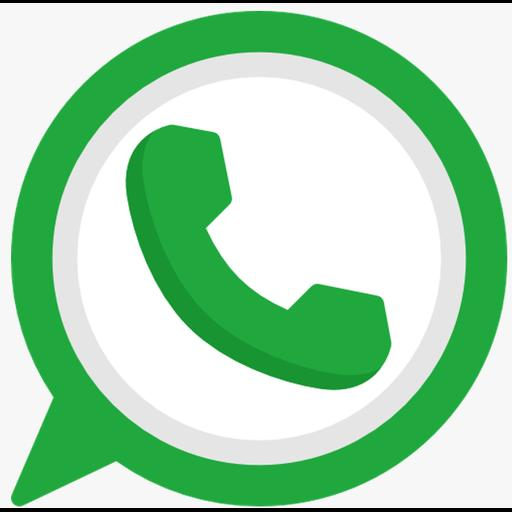WhatsApp: (0, 3, 512, 508)
